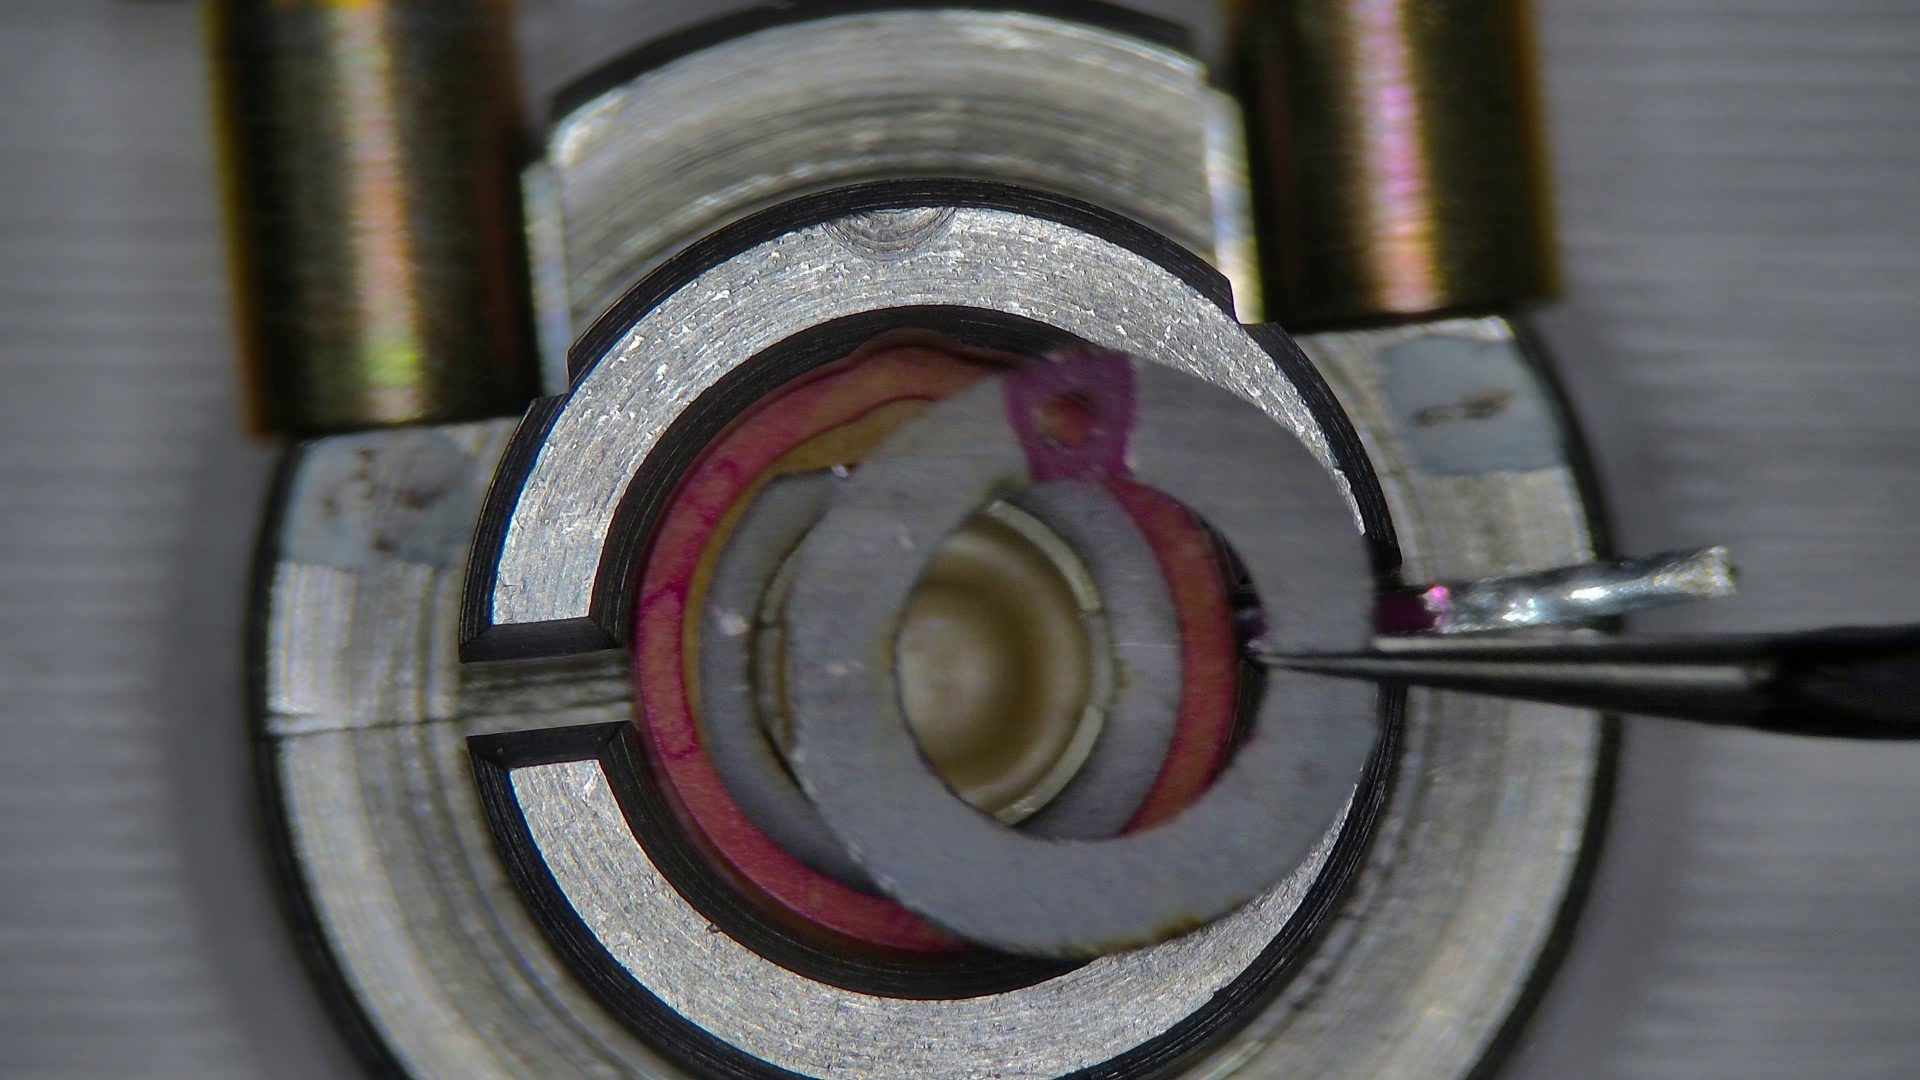GreyOring: (633, 347, 988, 955), (1091, 462, 1236, 836), (1047, 400, 1089, 440)
YellowOring: (793, 355, 1375, 953), (696, 467, 911, 909), (1029, 473, 1182, 829)
redOring: (682, 398, 923, 745)
